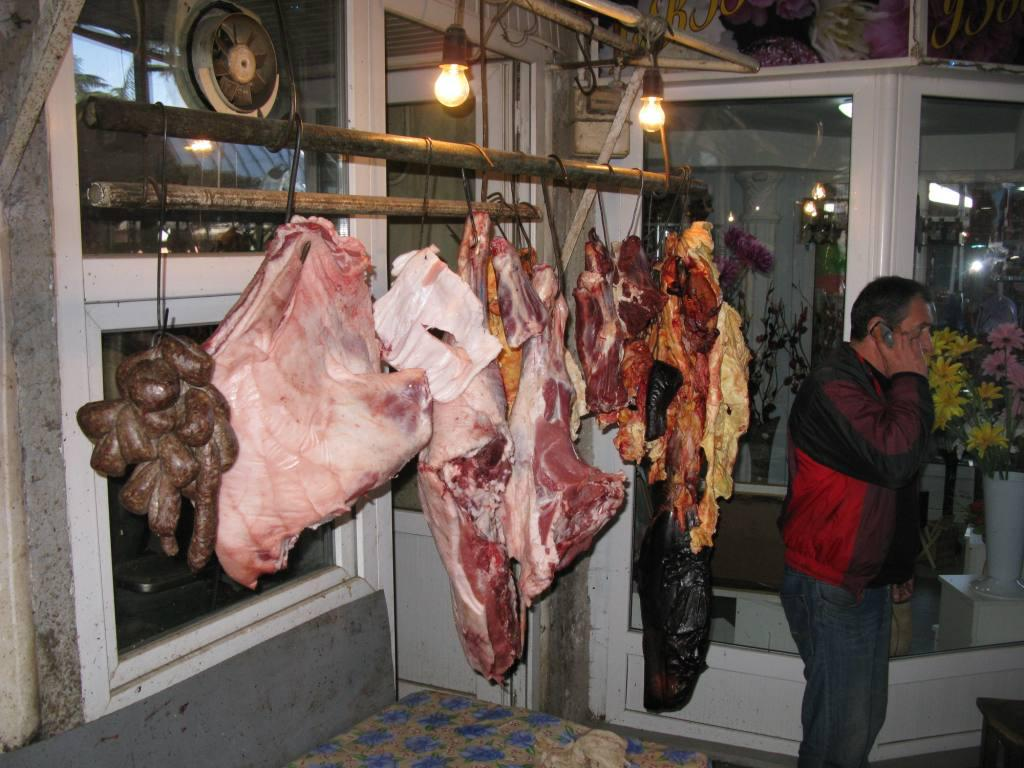Person: (776, 275, 935, 768)
